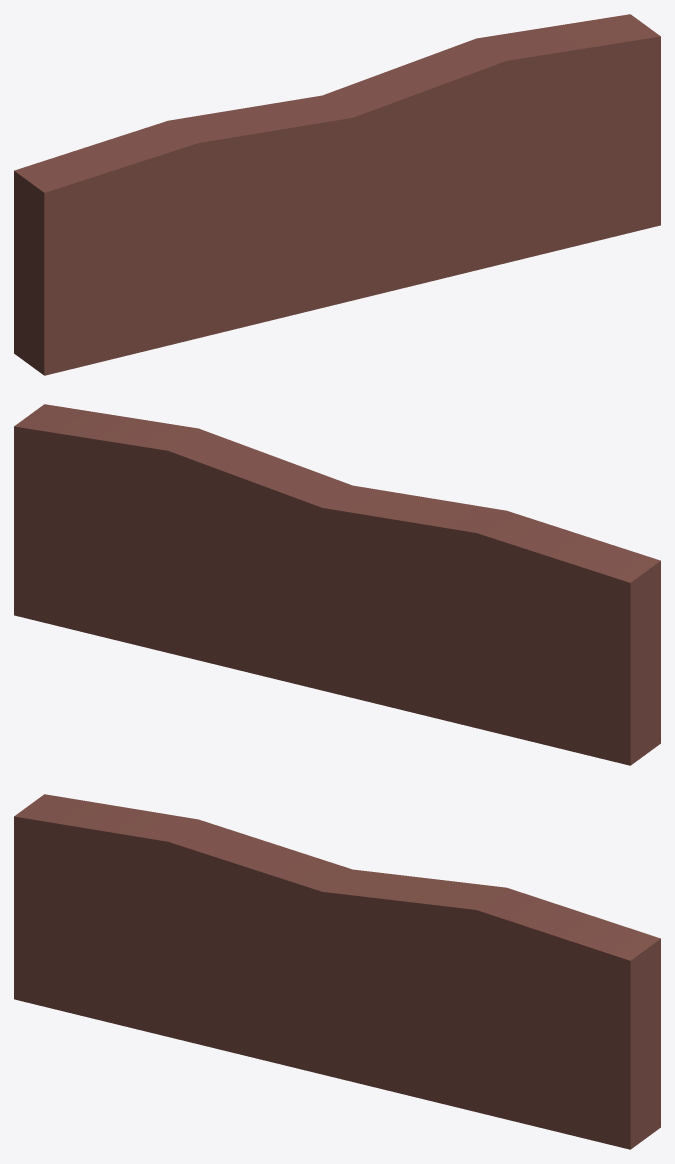
The model's file is plant_box_plank_001.fbx.
3 views of the same model, one above another, from view 1: azimuth 30°, elevation 25°; view 2: azimuth 150°, elevation 25°; view 3: azimuth 330°, elevation 25° (orthographic).
Visible parts, largest first — view 1: plantbox.plank.001; view 2: plantbox.plank.001; view 3: plantbox.plank.001.
Part boxes in pixels (bbox=[...]): plantbox.plank.001: bbox=[14, 14, 660, 375]; plantbox.plank.001: bbox=[14, 404, 660, 765]; plantbox.plank.001: bbox=[14, 794, 660, 1149].
Size of the model in its own units: 99.68 by 31.24 by 8.54.
